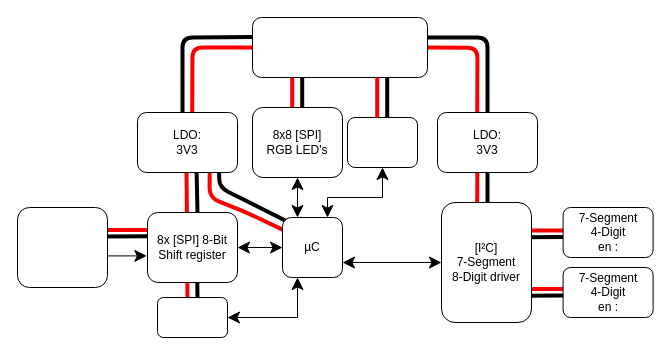
Image size: 671x355. Some labels were removed from this diagram. The centre of each missing label's shape, as x and y in pixels:
"8x8 magnetische sensoren" goes at (x=62, y=247).
"[I²C] EEPROM" goes at (x=192, y=317).
"Rotary Encoder" goes at (x=382, y=142).
"Voeding: 230V/5V 5A" goes at (x=340, y=47).
